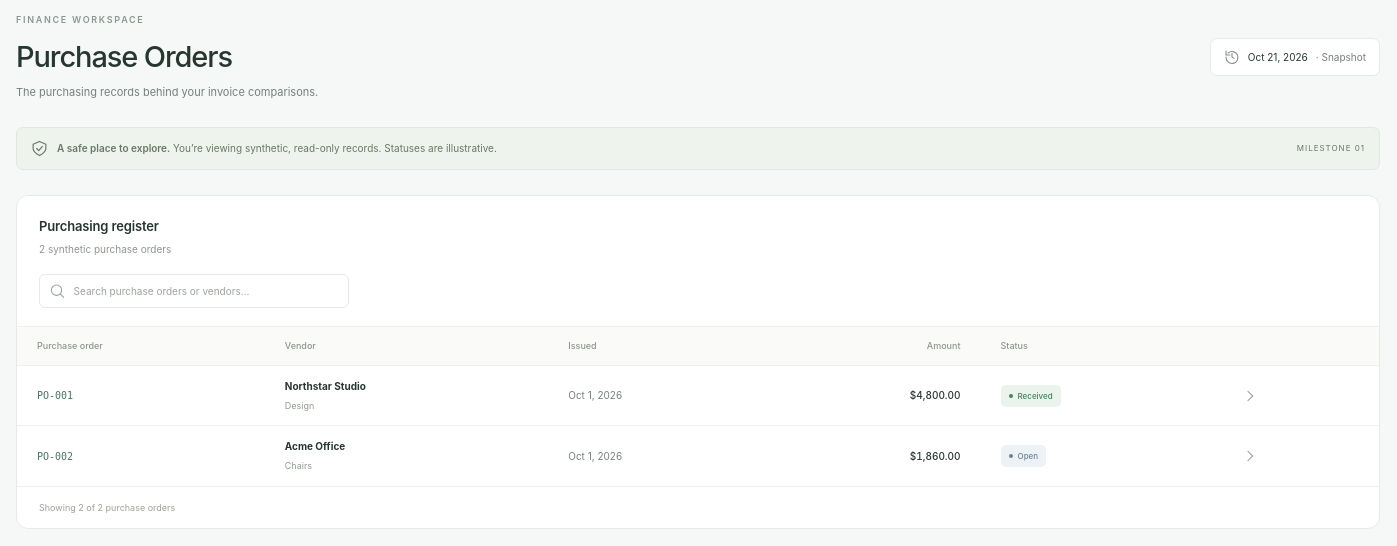
Scenario: purchase order search uses real source records
The width and height of the screenshot is (1397, 546).
Type "PO-002" into the field labelled "Search purchase orders" at (206, 291), box top-left (74, 284), bottom-right (338, 299)
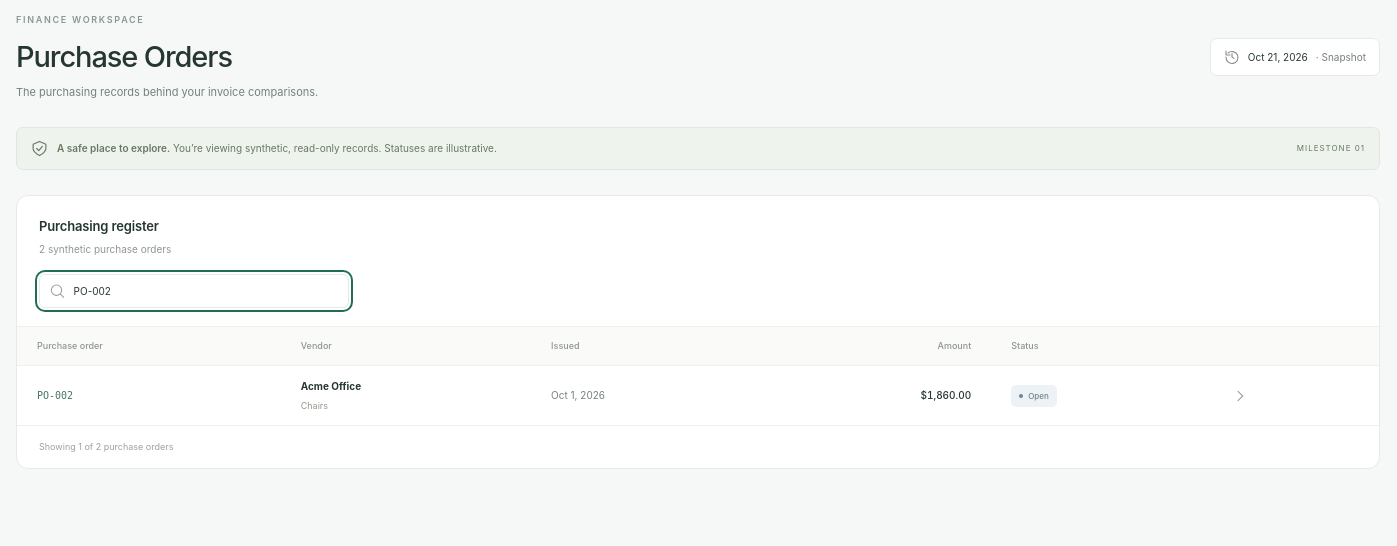
Expected: the button "PO-002" is shown, top-left (37, 383), bottom-right (73, 408)
Expected: the button "PO-001" is gone
